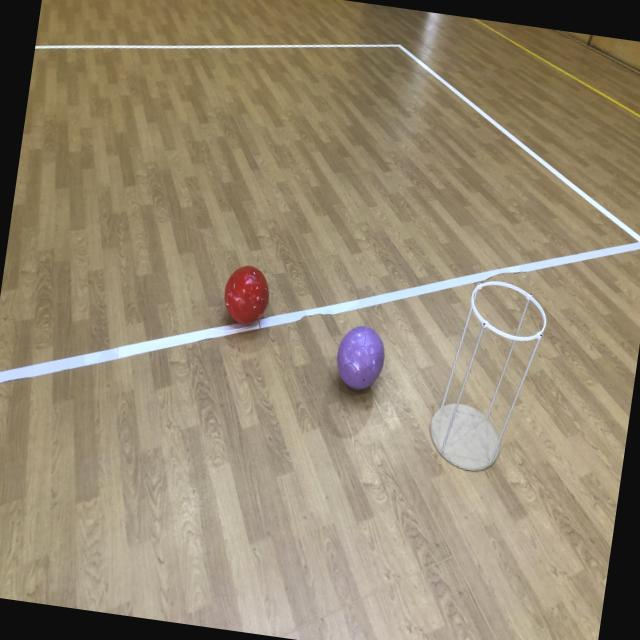purple_ball: (334, 324, 387, 392)
red_ball: (221, 262, 271, 328)
